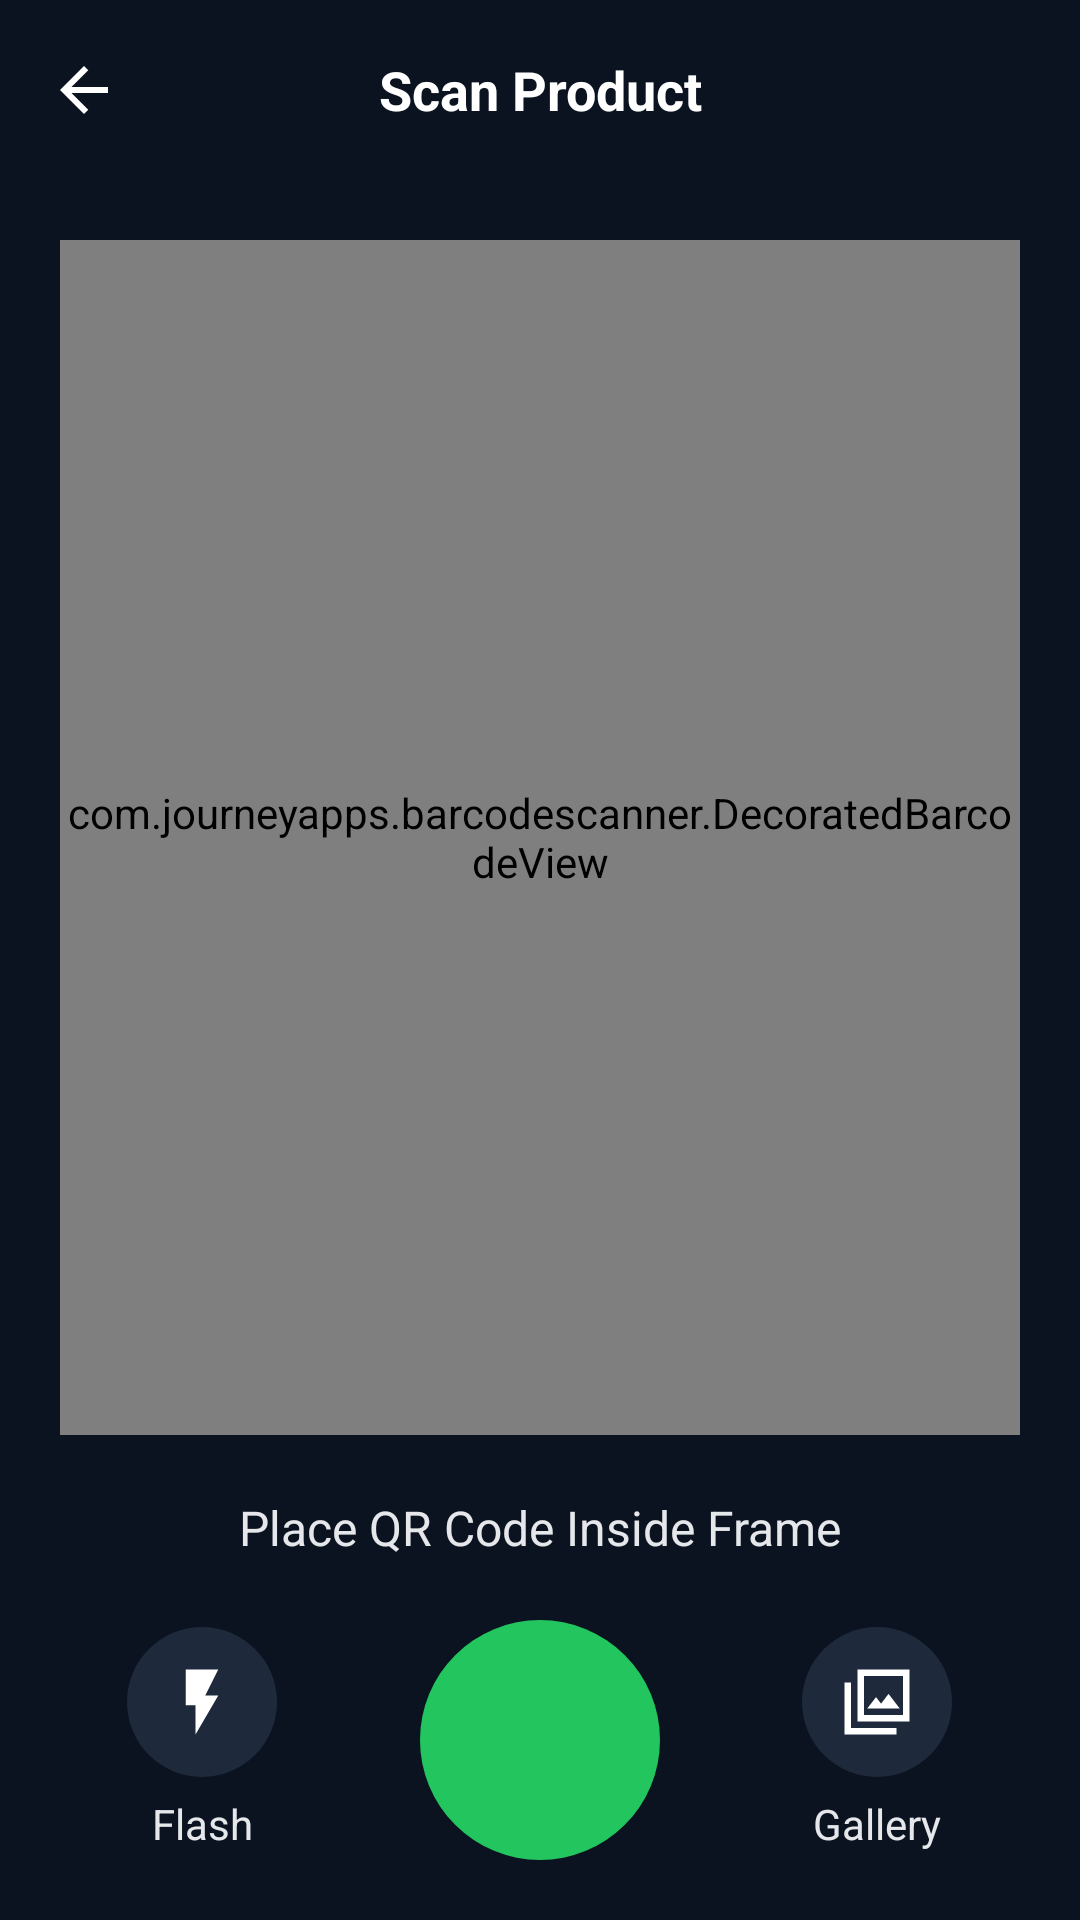

Locate icon controls on the screen. Image size 1080px x 1920px, boxes as [x1,y1,x2,y2].
back: [60,66,108,114]
